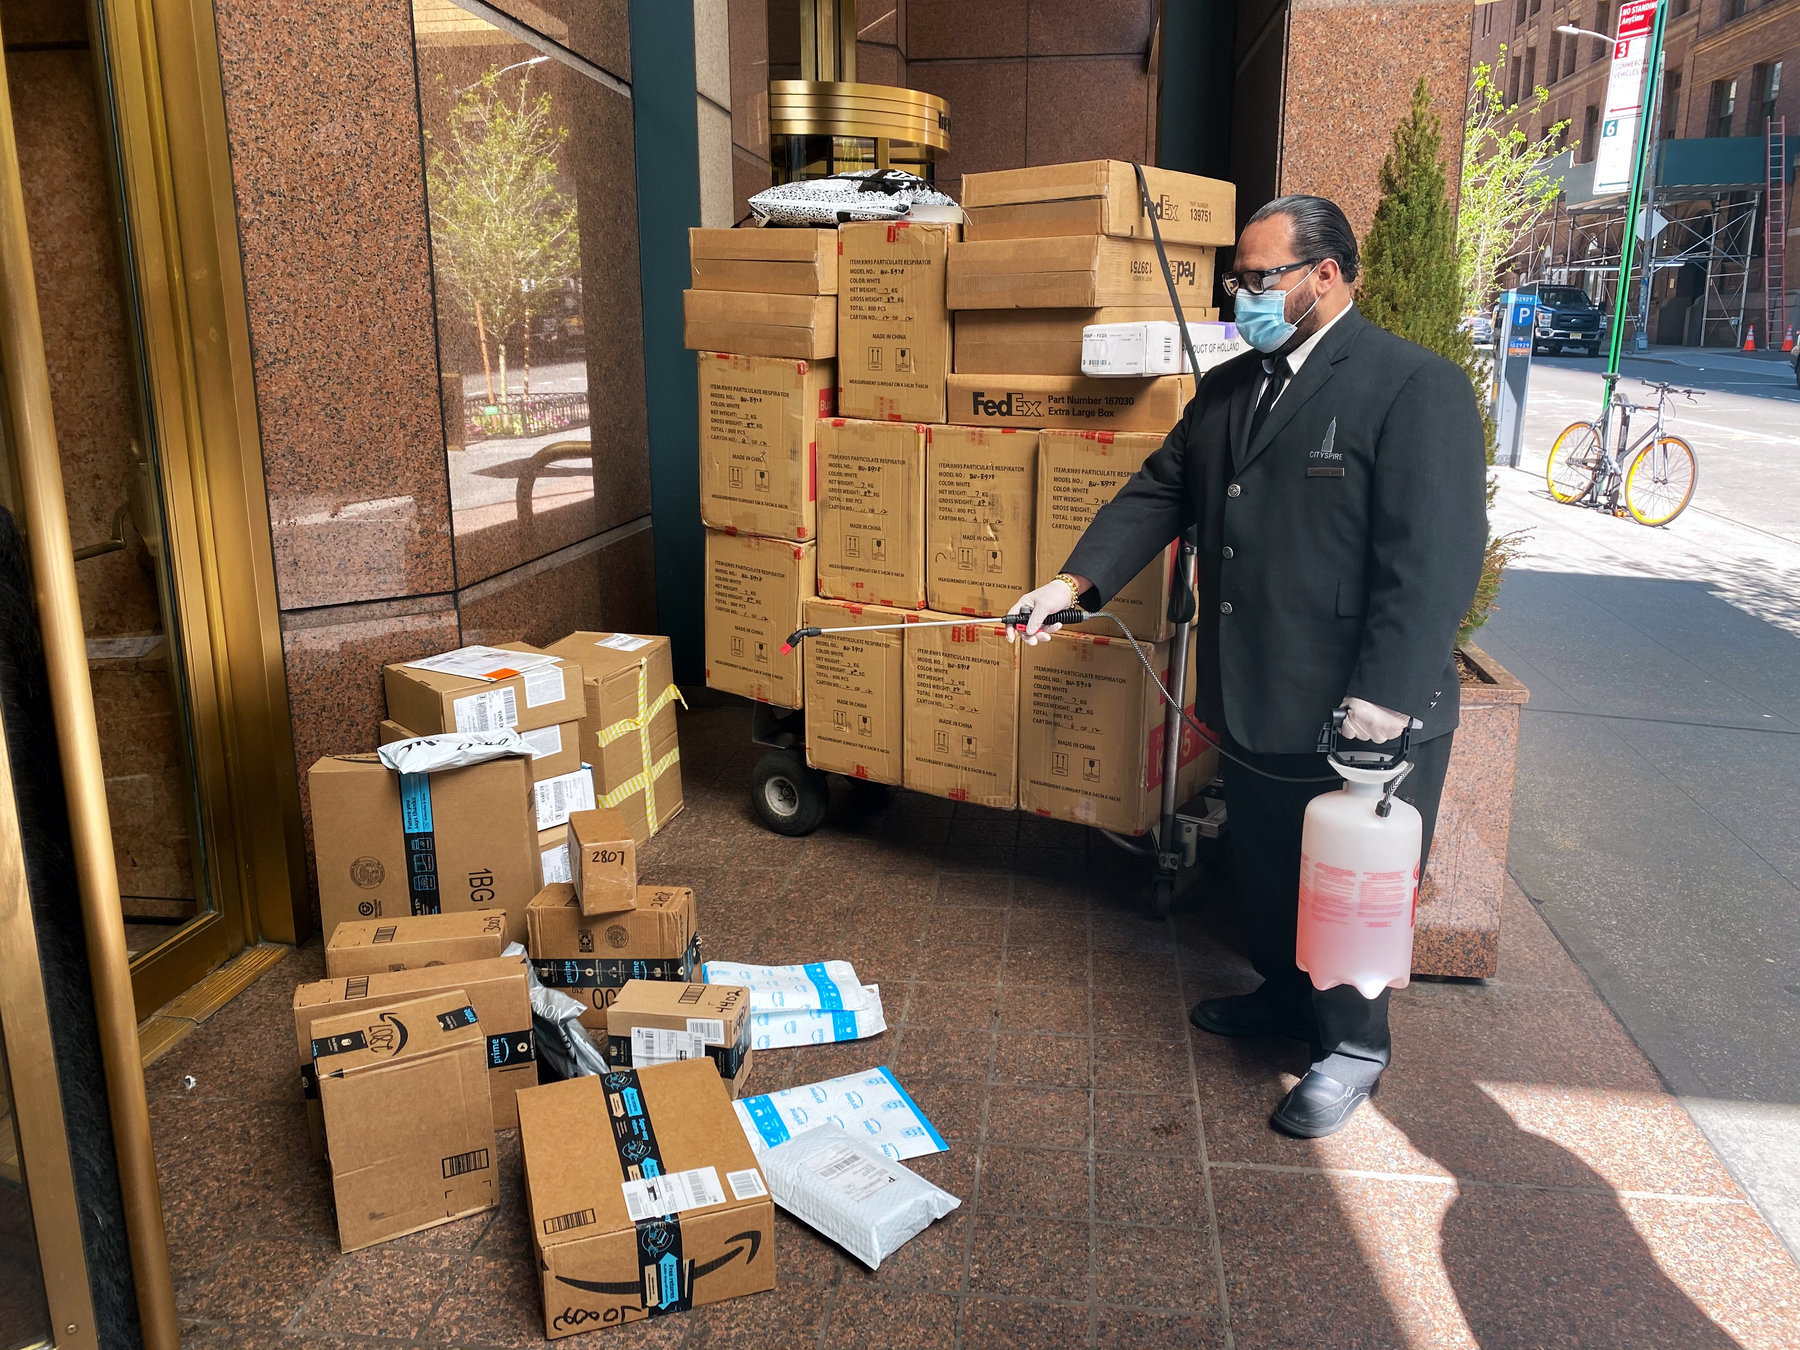bicycle: (1541, 375, 1707, 525)
car: (1495, 277, 1607, 355)
package: (521, 1061, 793, 1337), (303, 757, 539, 973), (305, 993, 503, 1243), (537, 633, 703, 841), (1035, 429, 1171, 639), (891, 605, 1017, 831), (955, 163, 1247, 255), (525, 889, 715, 1029), (1039, 635, 1159, 855), (947, 315, 1189, 423), (827, 215, 953, 417), (805, 415, 935, 609), (689, 357, 825, 541), (669, 541, 815, 713), (921, 417, 1031, 631), (369, 629, 579, 735), (799, 595, 903, 799), (955, 237, 1227, 313), (605, 969, 771, 1089), (673, 215, 839, 293), (669, 289, 847, 361), (573, 815, 645, 915), (329, 913, 505, 953)
person: (1003, 193, 1499, 1145)
